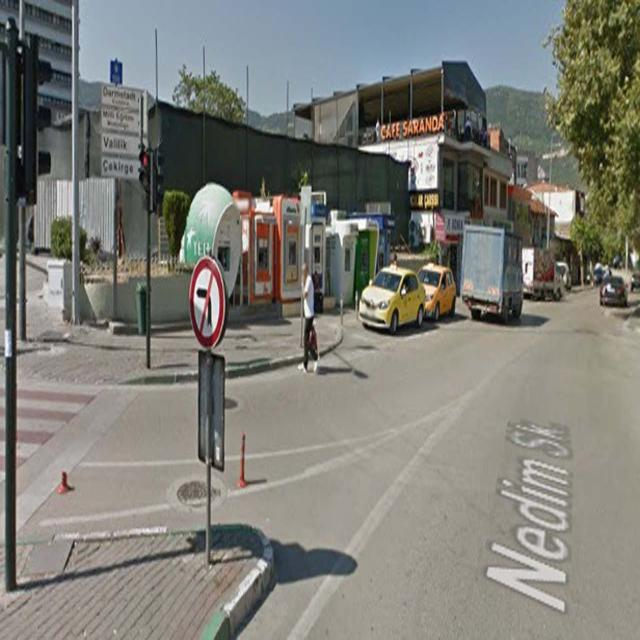soladonulmez: (189, 256, 225, 350)
